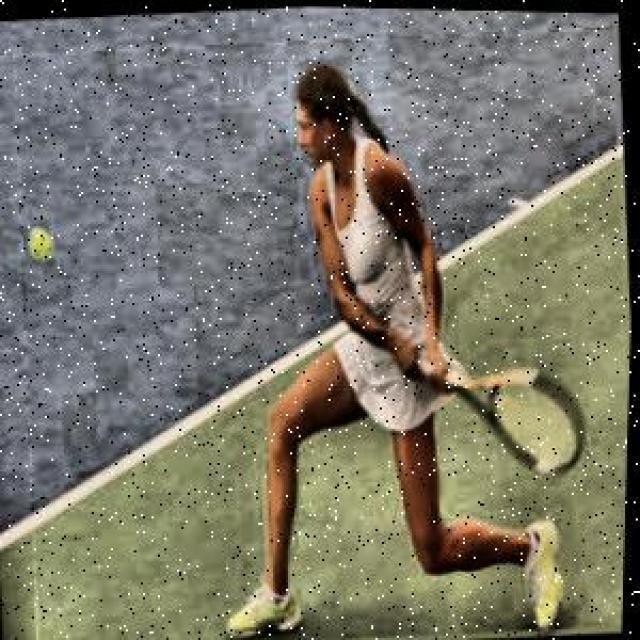tennis-ball: (28, 228, 58, 258)
